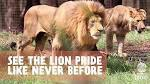lion: (19, 1, 109, 55), (102, 4, 146, 63)
